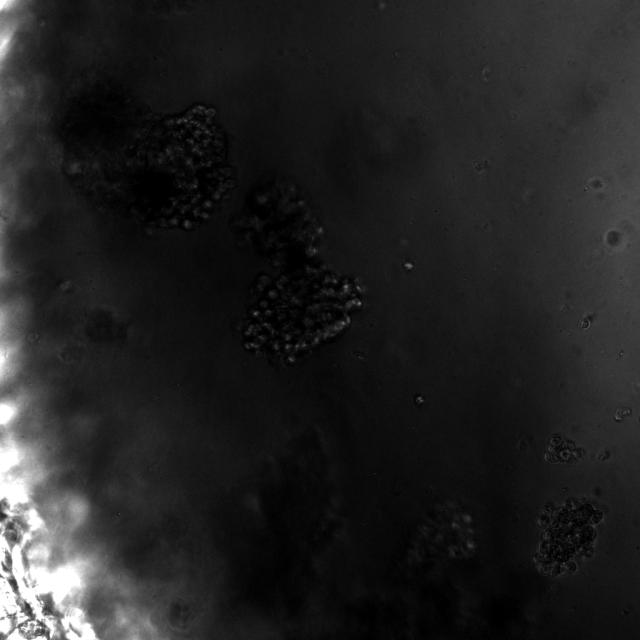organoid: (51, 72, 236, 229), (233, 180, 362, 364), (532, 497, 603, 577), (403, 505, 476, 570), (544, 434, 584, 465), (613, 406, 632, 421), (598, 451, 609, 461)
